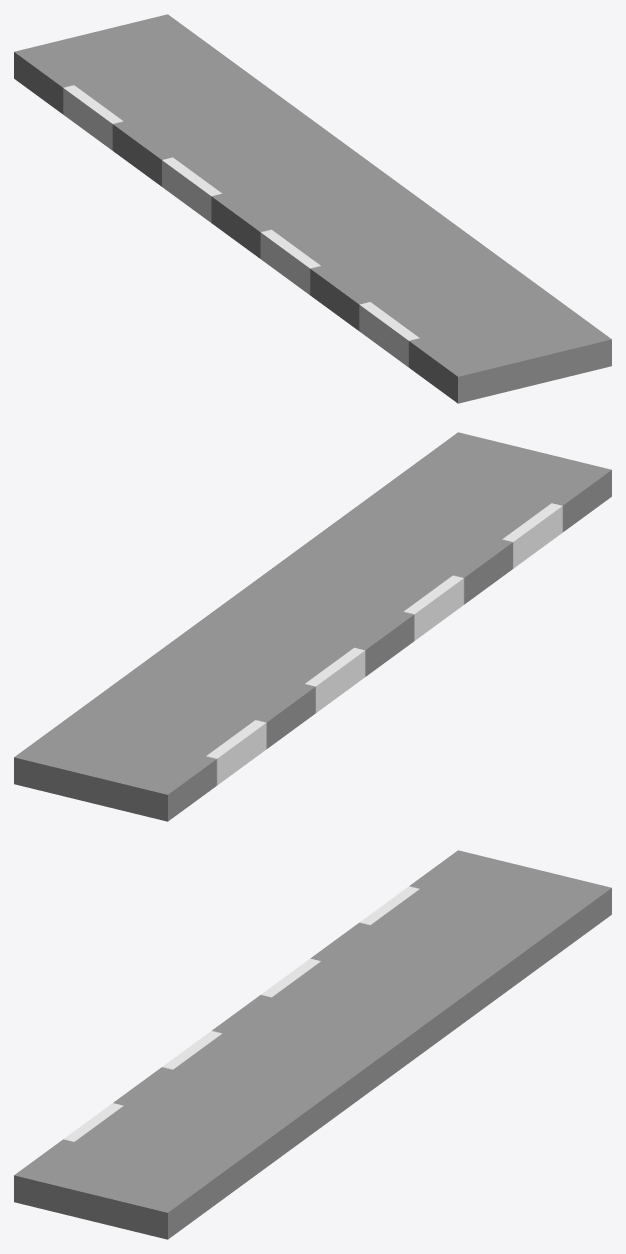
File: sm_road_roadLines_GEO.fbx
3 renders of one model, top to bottom at view 1: azimuth 30°, elevation 25°; view 2: azimuth 150°, elevation 25°; view 3: azimuth 330°, elevation 25°, orthographic.
Parts seen in each view (by area): view 1: road_roadLines_GEO; view 2: road_roadLines_GEO; view 3: road_roadLines_GEO.
Boxes of the visible parts, x1=… form: road_roadLines_GEO: x1=14, y1=14, x2=611, y2=403; road_roadLines_GEO: x1=14, y1=432, x2=611, y2=821; road_roadLines_GEO: x1=14, y1=850, x2=611, y2=1239.
Size of the model in its own units: 6 by 1 by 30.
